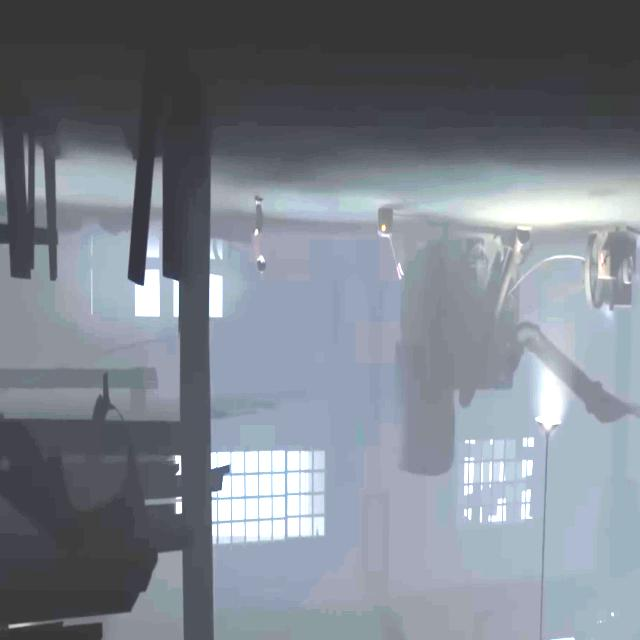boy: (250, 194, 268, 273)
